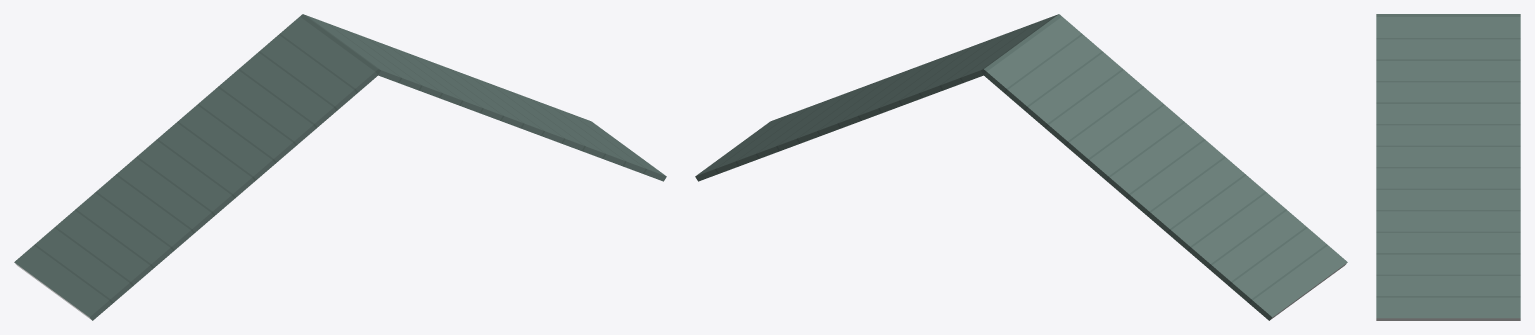
Rendered from Roof4_C6_01.fbx.
The picture shows the model from 3 angles, left to right: view 1: azimuth 30°, elevation 25°; view 2: azimuth 150°, elevation 25°; view 3: azimuth 270°, elevation 25°; orthographic projection. The views are drawn at different scales.
Visible parts, largest first — view 1: Roof4_C6_01; view 2: Roof4_C6_01; view 3: Roof4_C6_01.
Part boxes in pixels (x1=…): Roof4_C6_01: x1=14, y1=14, x2=666, y2=320; Roof4_C6_01: x1=695, y1=14, x2=1347, y2=320; Roof4_C6_01: x1=1376, y1=14, x2=1520, y2=320.
Bounding box in the file's own units: 1105 × 333 × 250.
